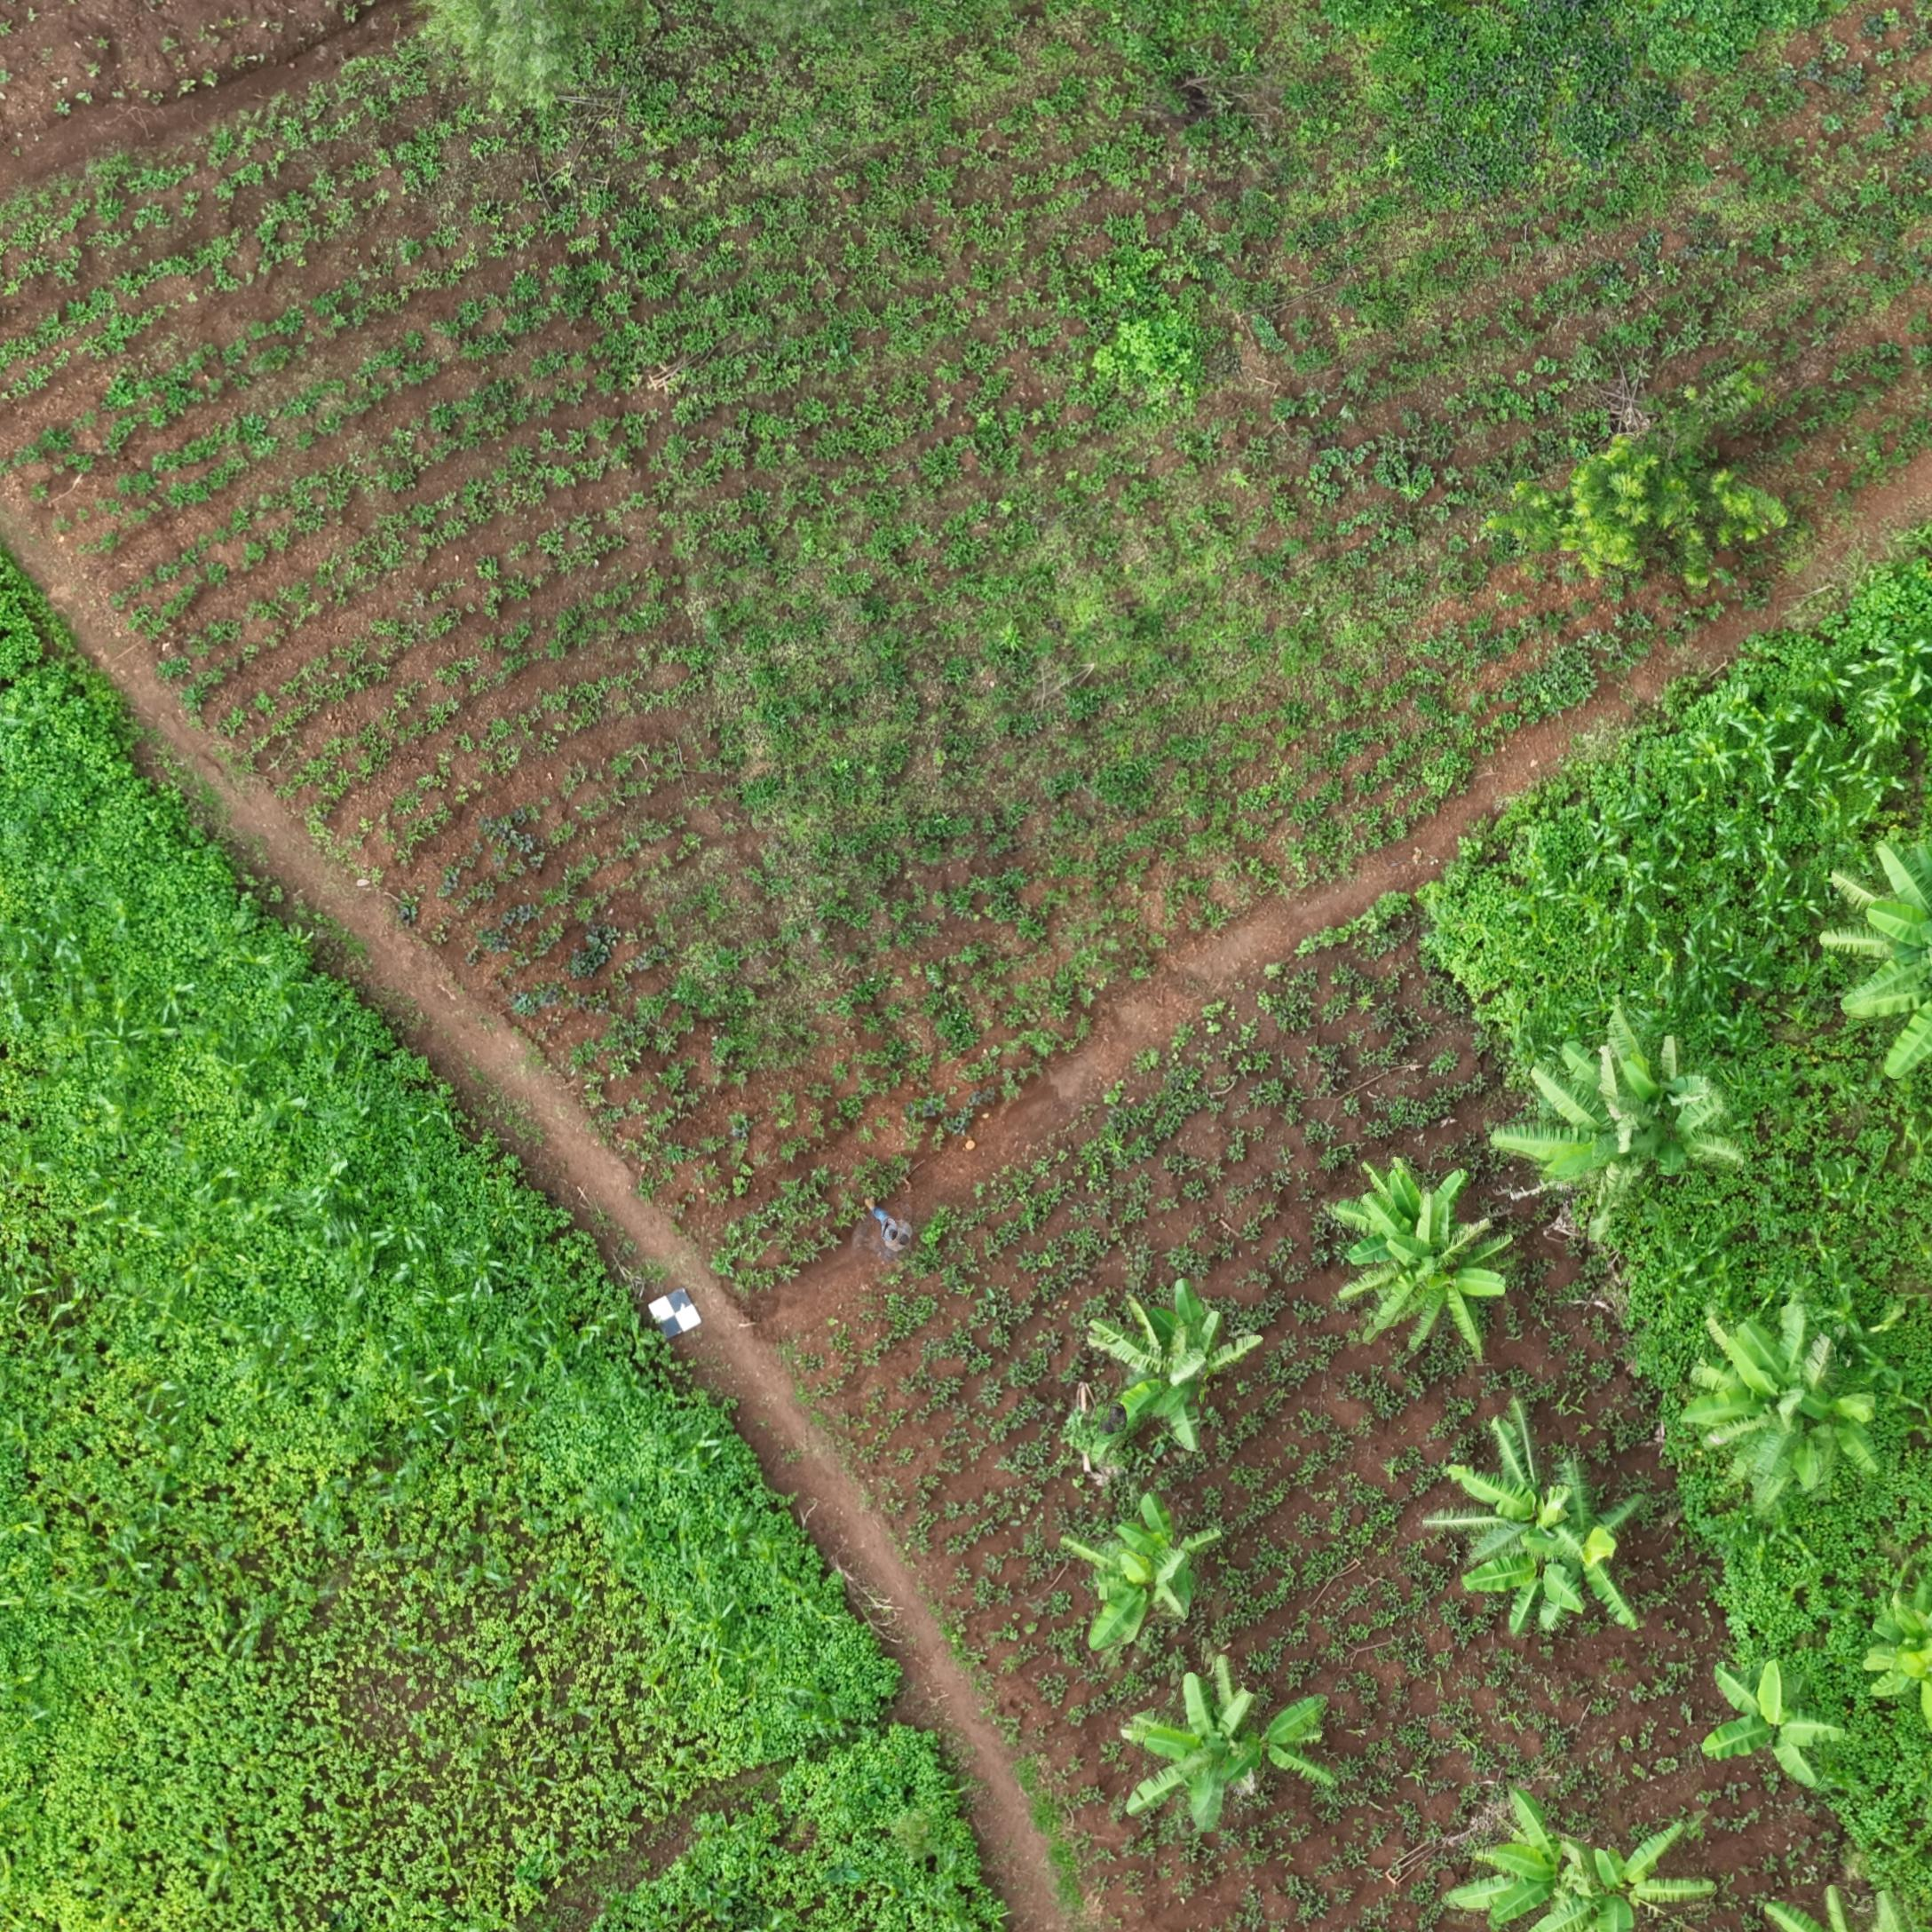Banana: (1507, 1523, 1713, 1713), (1759, 1346, 1932, 1569), (1587, 1088, 1822, 1242), (1180, 1762, 1389, 1904), (1394, 1254, 1569, 1414), (1148, 1361, 1300, 1511), (1785, 1704, 1905, 1861), (1118, 1578, 1256, 1713)
